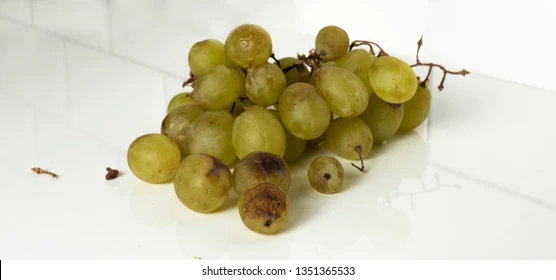Unhealthy: (175, 152, 228, 213), (315, 67, 369, 118), (238, 181, 291, 232), (233, 108, 285, 158), (282, 84, 331, 137), (128, 133, 178, 184), (182, 110, 235, 157), (226, 21, 277, 65), (371, 53, 415, 104), (197, 67, 243, 109), (236, 153, 292, 187), (327, 118, 371, 158), (247, 63, 285, 105), (399, 84, 432, 131), (367, 101, 404, 142), (161, 107, 205, 139), (308, 156, 345, 193), (314, 23, 352, 59), (188, 40, 226, 74), (165, 93, 196, 112)
